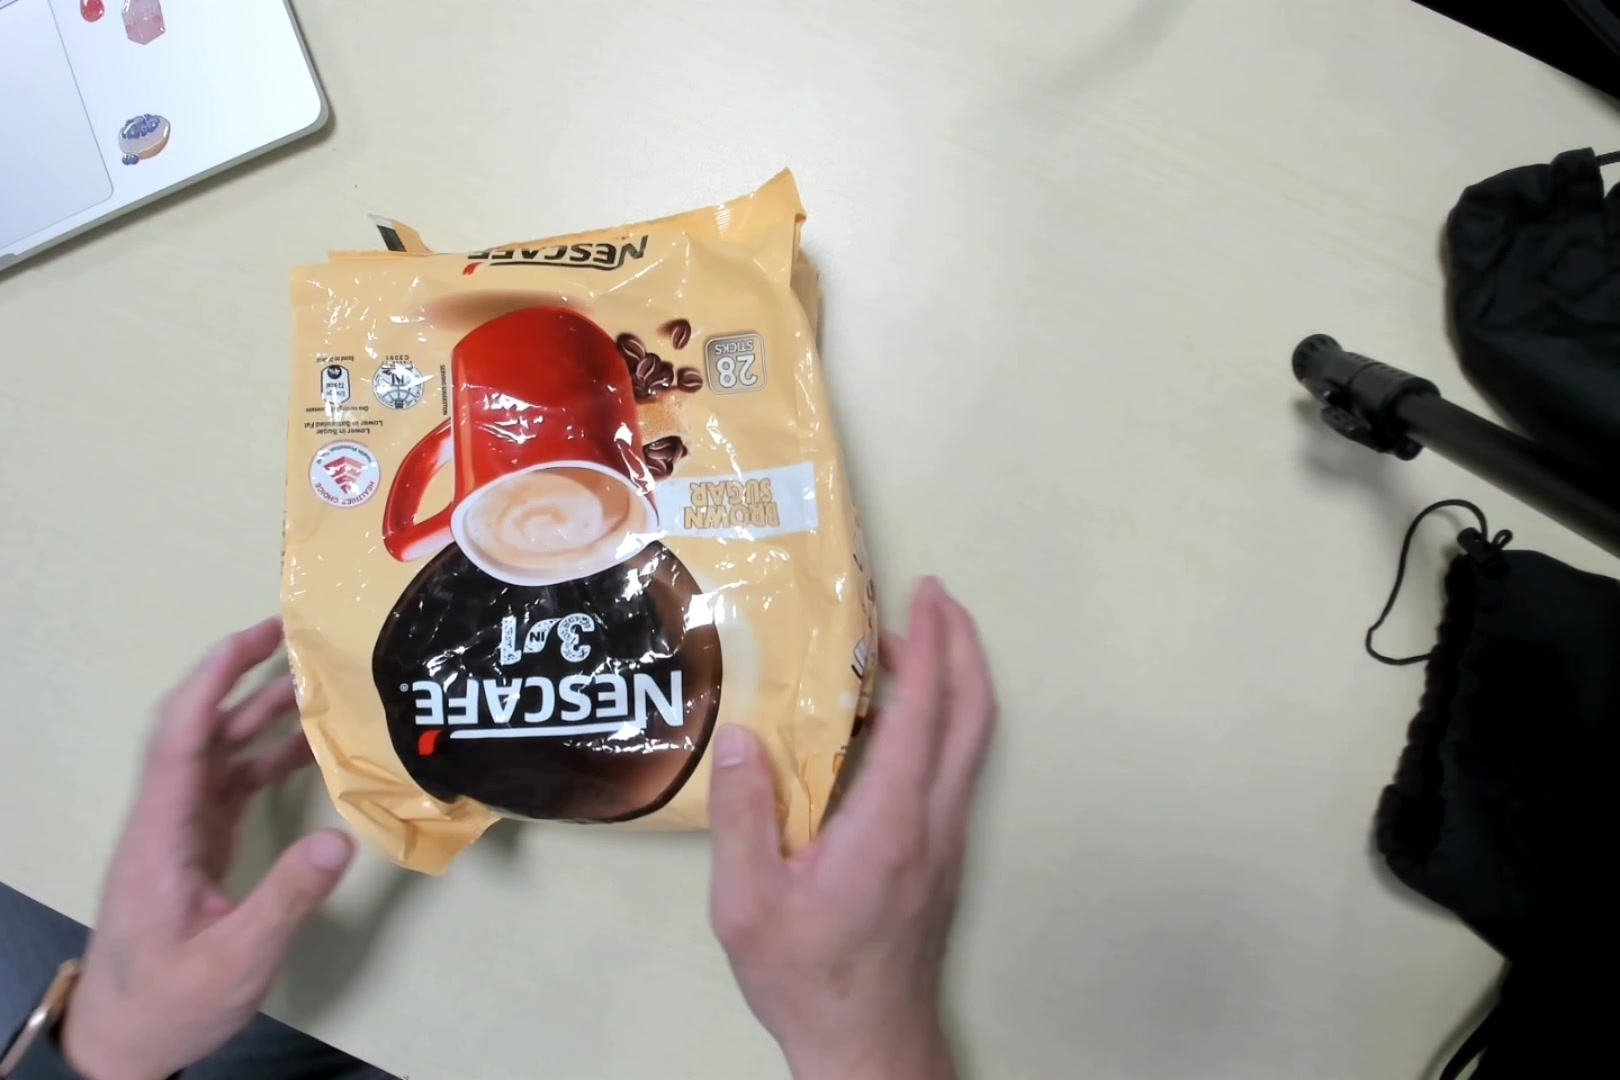Coffee(Powder)_500-599g_Halal_Healthy: (284, 221, 875, 843)
